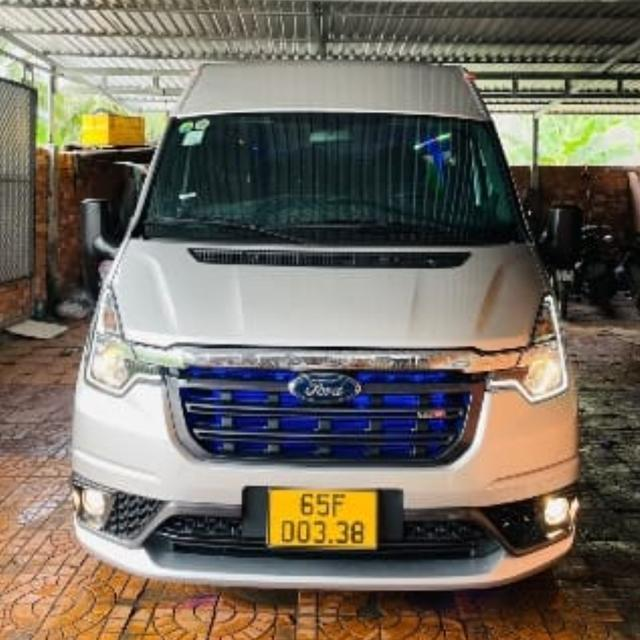car: (48, 61, 581, 627)
plate: (259, 481, 386, 556)
